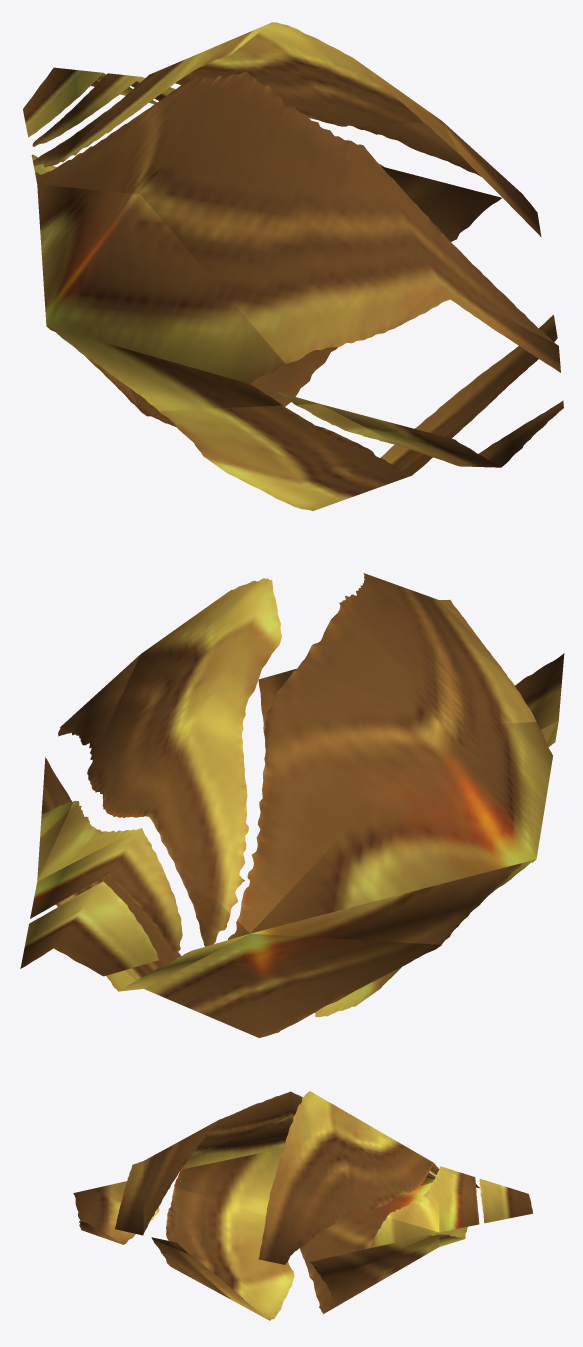
Rendered from zidan_01.FBX.
The picture shows the model from 3 angles, top to bottom: view 1: azimuth 30°, elevation 25°; view 2: azimuth 150°, elevation 25°; view 3: azimuth 270°, elevation 25°; orthographic projection. The views are drawn at different scales.
Visible parts, largest first — view 1: Box001; view 2: Box001; view 3: Box001.
Boxes of the visible parts, <box> form: Box001: <box>23,22,563,510</box>; Box001: <box>20,573,564,1038</box>; Box001: <box>73,1091,532,1320</box>.
Size of the model in its own units: 95.6 by 94.08 by 187.
1 material, 1 textured.
